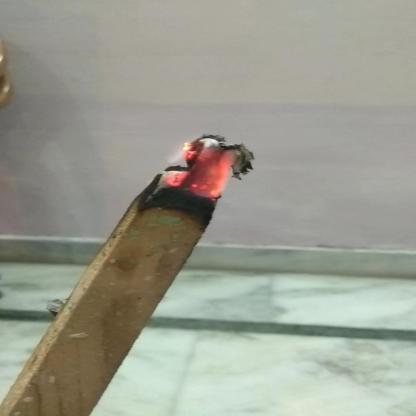fire: (161, 138, 235, 197)
